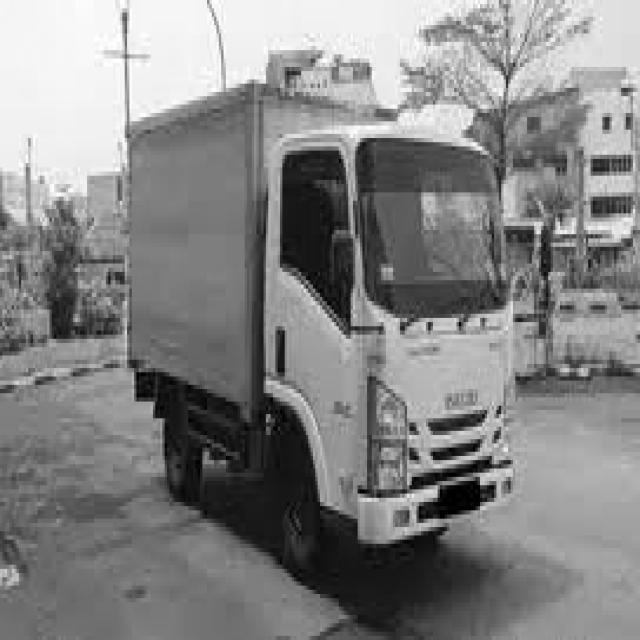truck: (253, 89, 541, 576)
